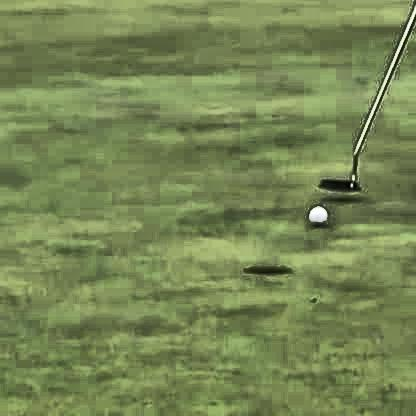golfball: (304, 200, 323, 222)
